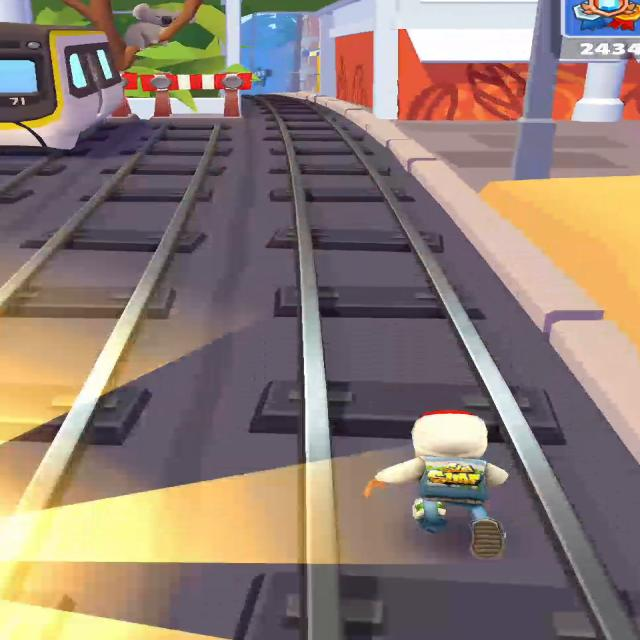block pillar: (123, 0, 253, 118)
train: (0, 22, 126, 149)
